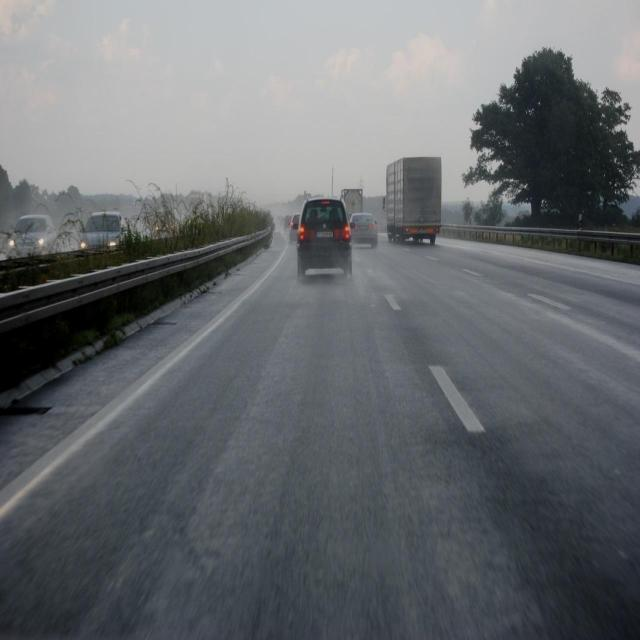Car: (78, 196, 132, 264), (297, 202, 348, 274), (6, 206, 61, 265), (150, 203, 189, 240), (348, 212, 378, 248), (289, 204, 307, 240)
Truck: (382, 145, 455, 249), (339, 181, 369, 220)
